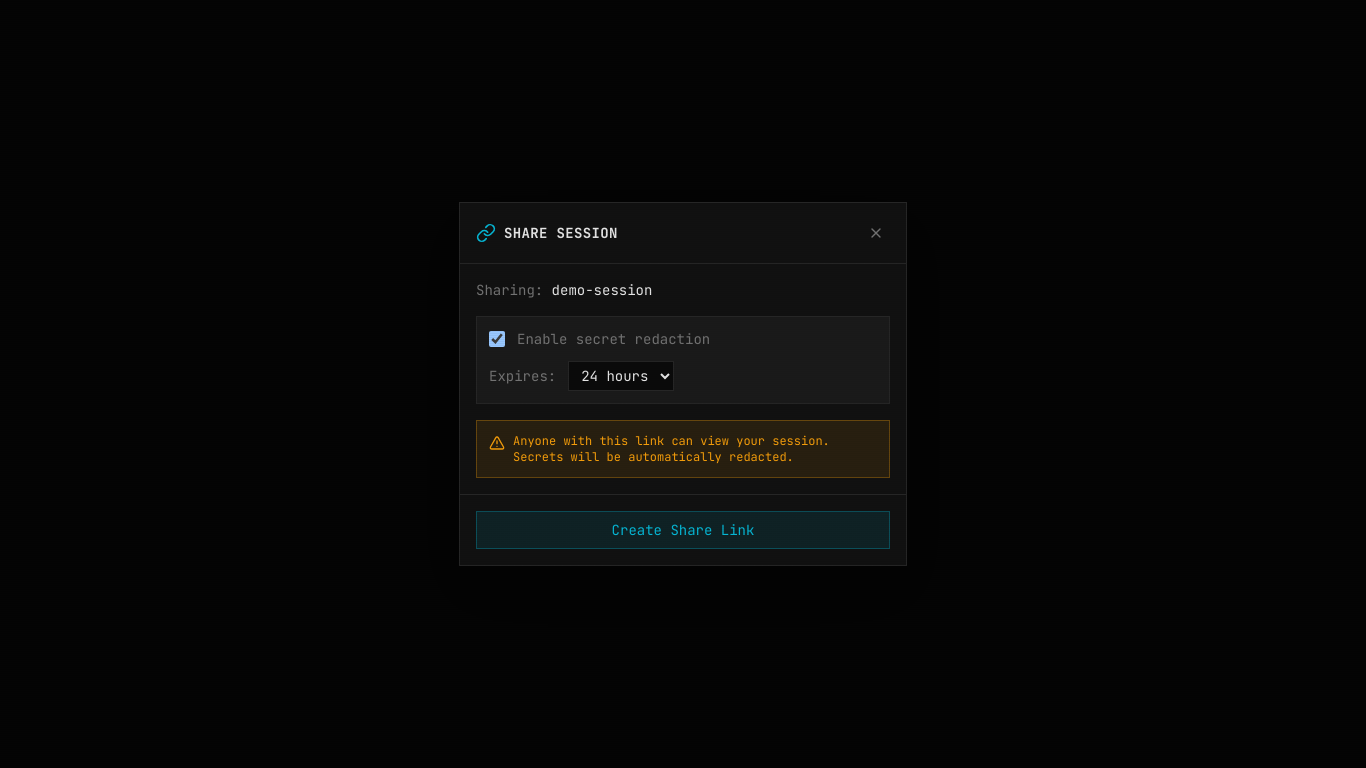
ShareModal › copies URL to clipboard after share link creation
Click the button "Create Share Link".
click(683, 530)  # box 476,511 -> 890,549
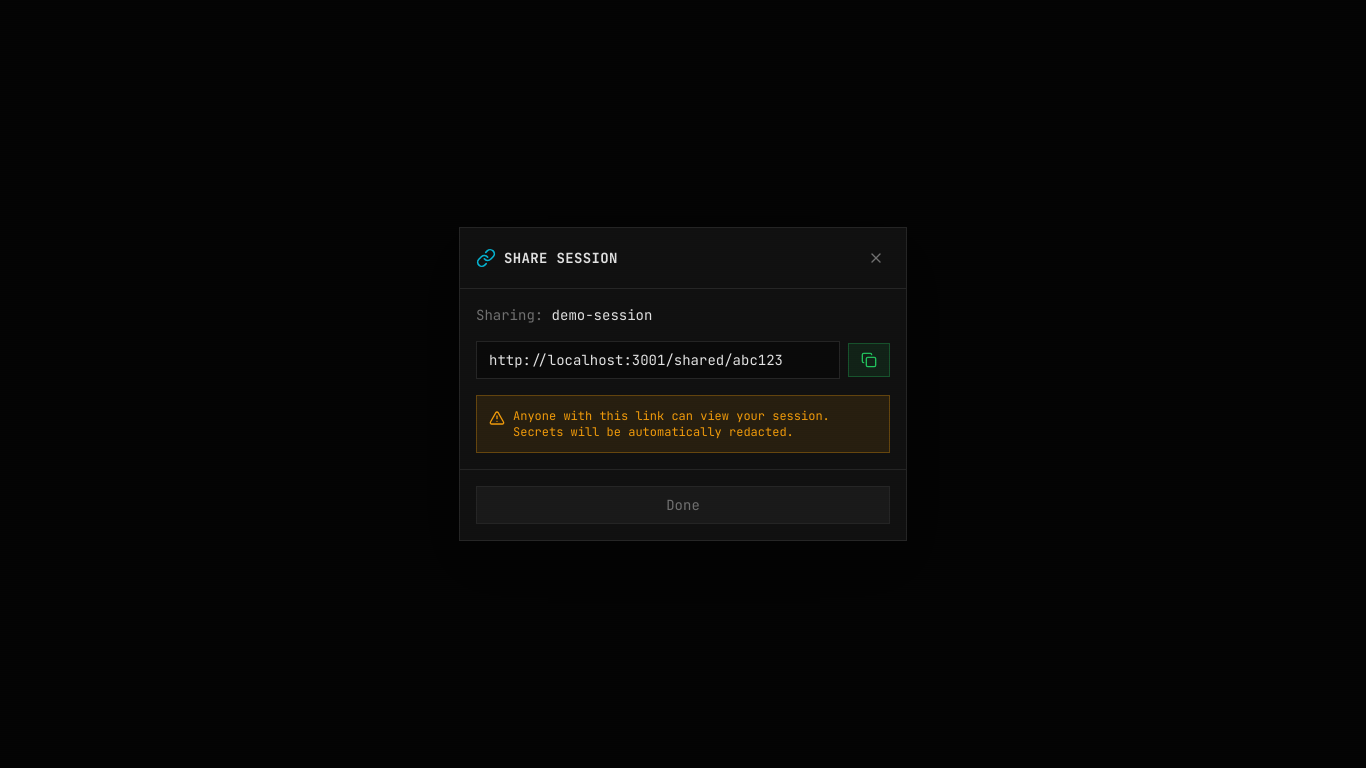
Check: the field showing "http://localhost:3001/shared/abc123" is shown, box 476,341 -> 840,379
Click the button named "Copy link".
click(869, 360)  # box 848,343 -> 890,377
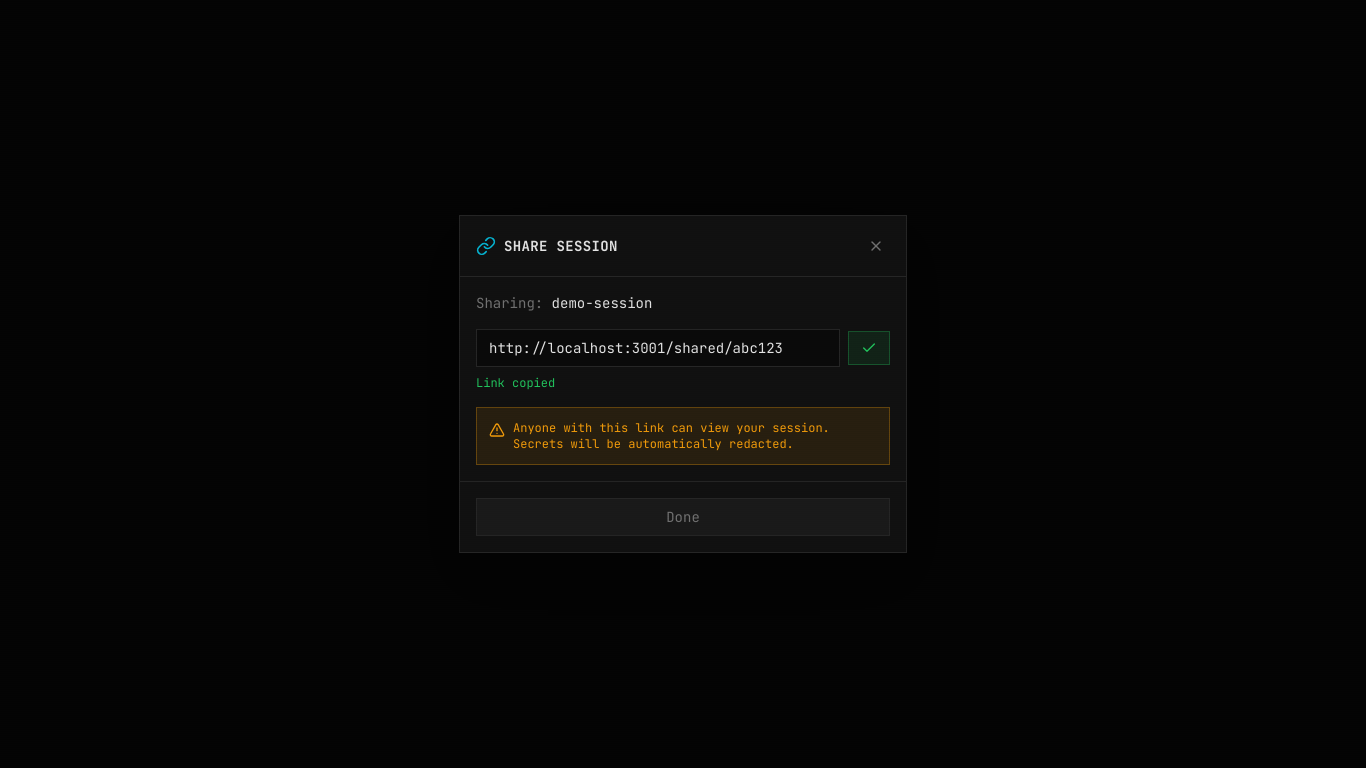
Check: the text "Link copied" is shown, box 476,375 -> 555,391
